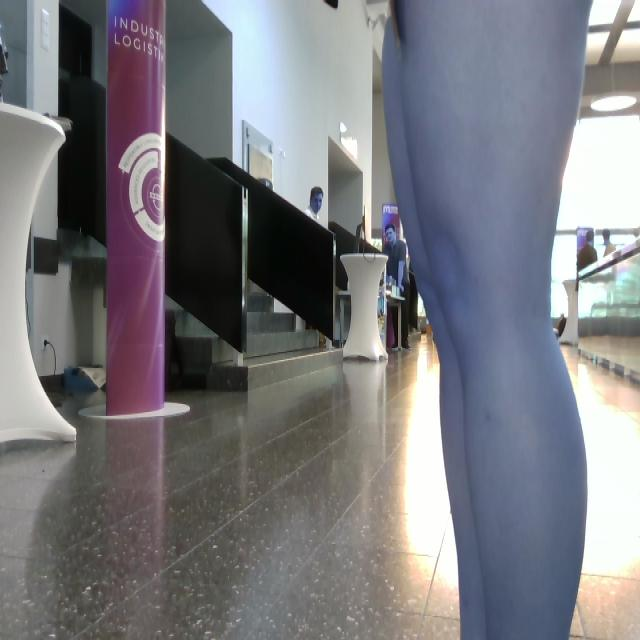person: (305, 188, 324, 220)
pillar: (1, 104, 76, 442)
staircase: (168, 134, 337, 356)
